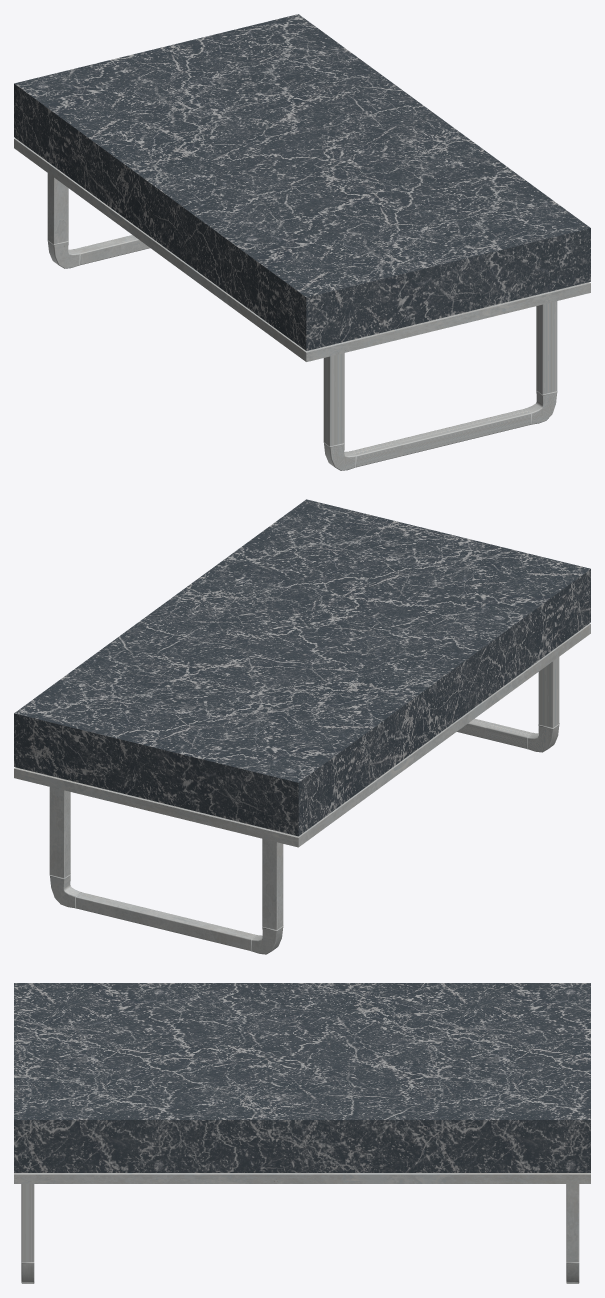
The model's file is center_table.glb.
3 views of the same model, one above another, from view 1: azimuth 30°, elevation 25°; view 2: azimuth 150°, elevation 25°; view 3: azimuth 270°, elevation 25° (orthographic).
Parts seen in each view (by area): view 1: MarbleTable01; view 2: MarbleTable01; view 3: MarbleTable01.
Part boxes in pixels (left/top/right/bottom): MarbleTable01: left=14, top=14, right=590, bottom=470; MarbleTable01: left=14, top=499, right=590, bottom=954; MarbleTable01: left=14, top=983, right=590, bottom=1283.
Size of the model in its own units: 0.5 by 0.3136 by 0.89.
2 materials, 2 textured.
